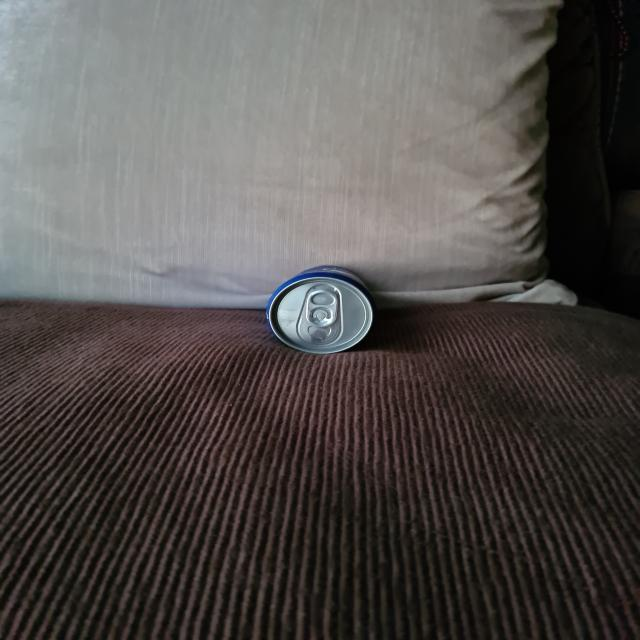can: (260, 264, 380, 356)
